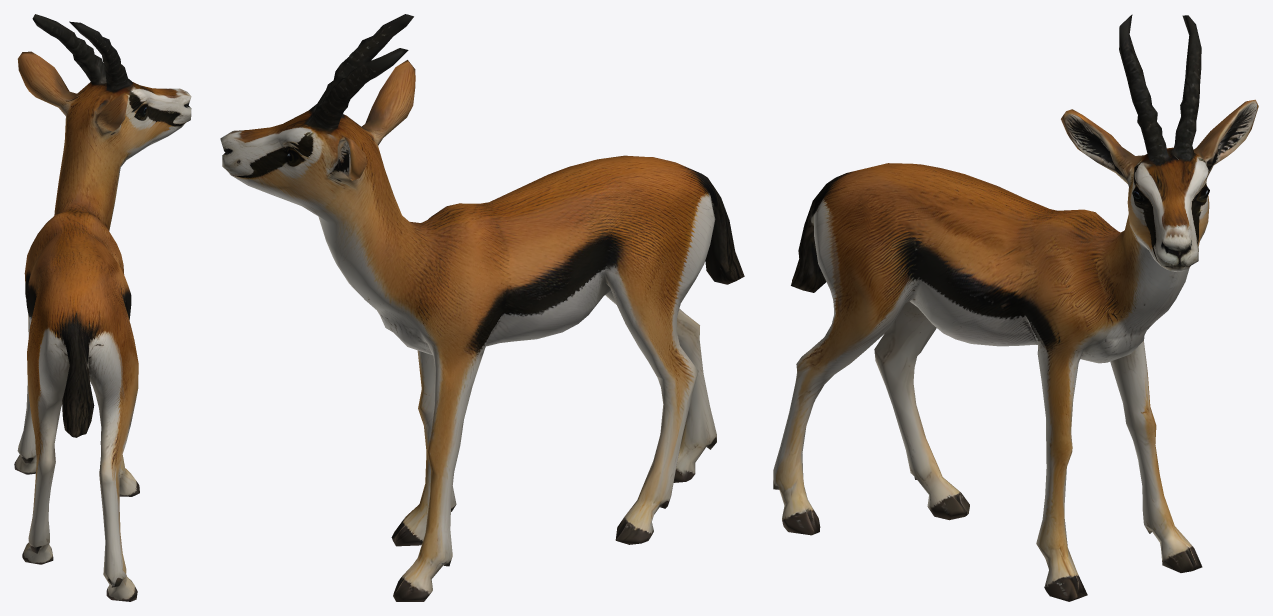
Rendered from gazelle.glb.
3 views of the same model, side by side, from view 1: azimuth 30°, elevation 25°; view 2: azimuth 150°, elevation 25°; view 3: azimuth 270°, elevation 25° (orthographic). The views are drawn at different scales.
Parts seen in each view (by area): view 1: tripo_node_a1f9fb25-92b9-418b-9f30-5ba43a776934; view 2: tripo_node_a1f9fb25-92b9-418b-9f30-5ba43a776934; view 3: tripo_node_a1f9fb25-92b9-418b-9f30-5ba43a776934.
Part boxes in pixels (x1=…): tripo_node_a1f9fb25-92b9-418b-9f30-5ba43a776934: x1=14, y1=14, x2=191, y2=601; tripo_node_a1f9fb25-92b9-418b-9f30-5ba43a776934: x1=220, y1=14, x2=744, y2=601; tripo_node_a1f9fb25-92b9-418b-9f30-5ba43a776934: x1=773, y1=14, x2=1258, y2=601.
Size of the model in its own units: 0.6258 by 1 by 0.7834.
Materials: 1 (1 with a texture image).
